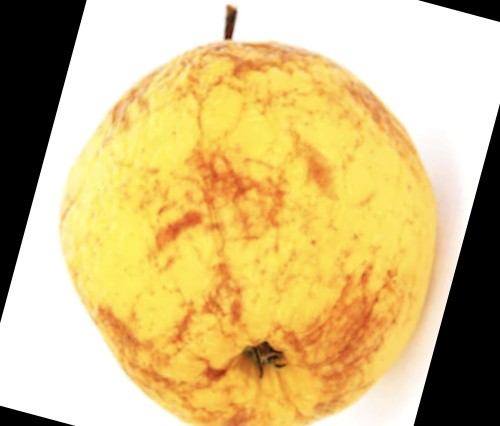rotten_apple: (58, 39, 436, 426)
